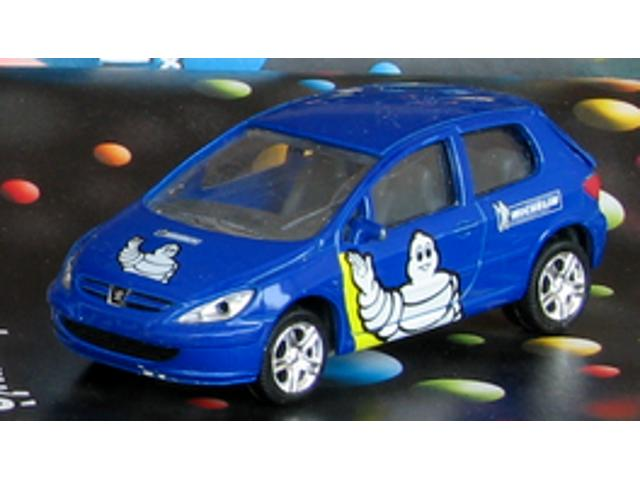toy-car: (45, 80, 608, 406)
